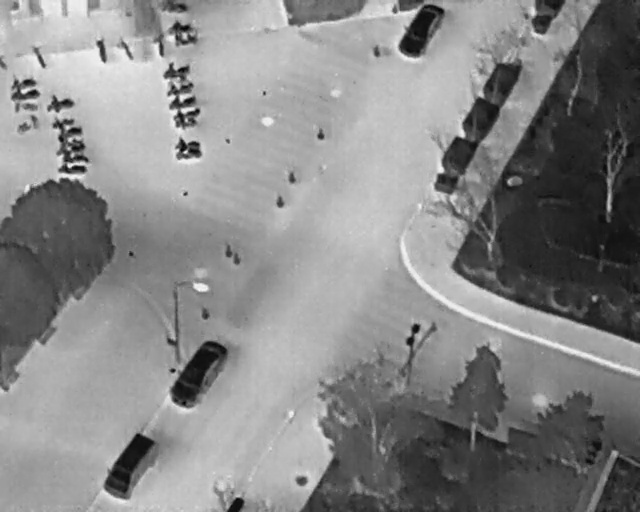Bicycle: (11, 112, 42, 140), (52, 122, 86, 146), (159, 58, 191, 81), (42, 92, 75, 114), (28, 41, 51, 71), (162, 77, 196, 97), (55, 138, 87, 157), (166, 92, 199, 110), (7, 73, 38, 92), (171, 28, 199, 49), (49, 113, 77, 134), (117, 36, 137, 65), (91, 36, 111, 65), (172, 133, 202, 152), (6, 87, 41, 103), (163, 16, 192, 35), (175, 146, 203, 163), (171, 106, 202, 121), (56, 163, 87, 177), (172, 115, 200, 130), (13, 99, 40, 114), (163, 0, 188, 14), (61, 152, 89, 164), (154, 39, 166, 60), (0, 54, 11, 71)
Car: (161, 330, 233, 417), (95, 425, 165, 507), (392, 1, 450, 68)
